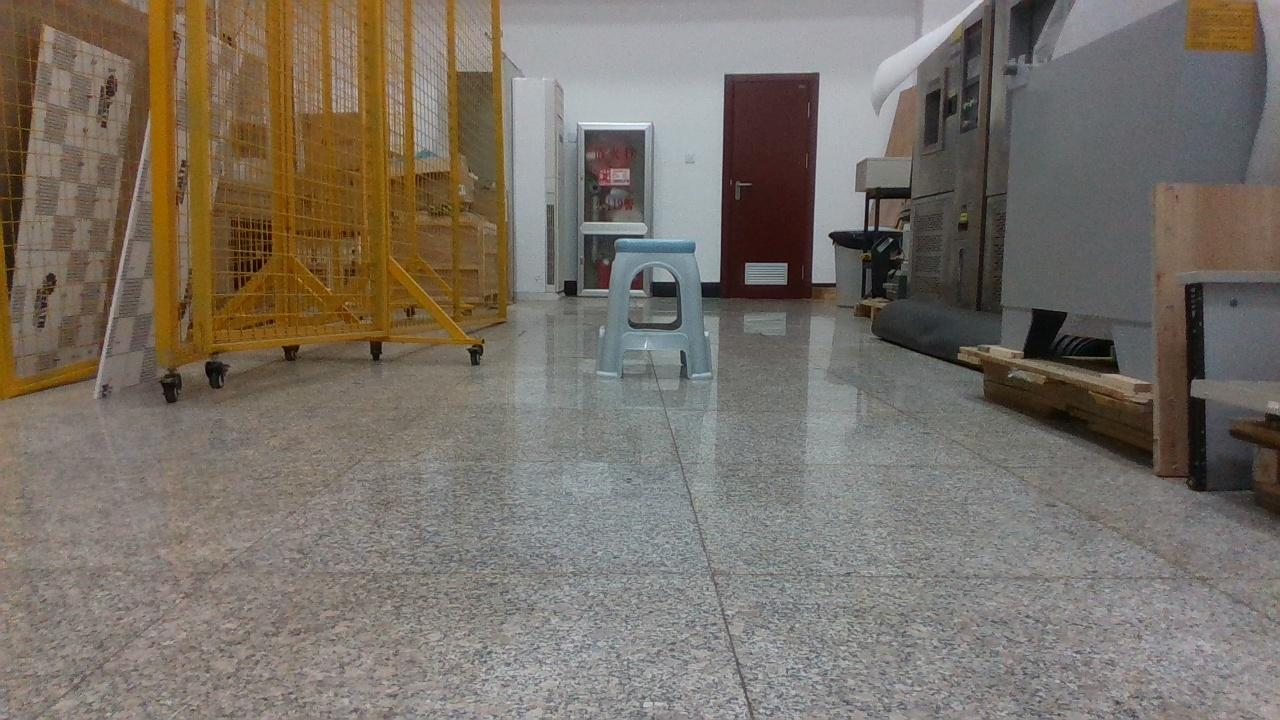stool: (596, 238, 712, 380)
